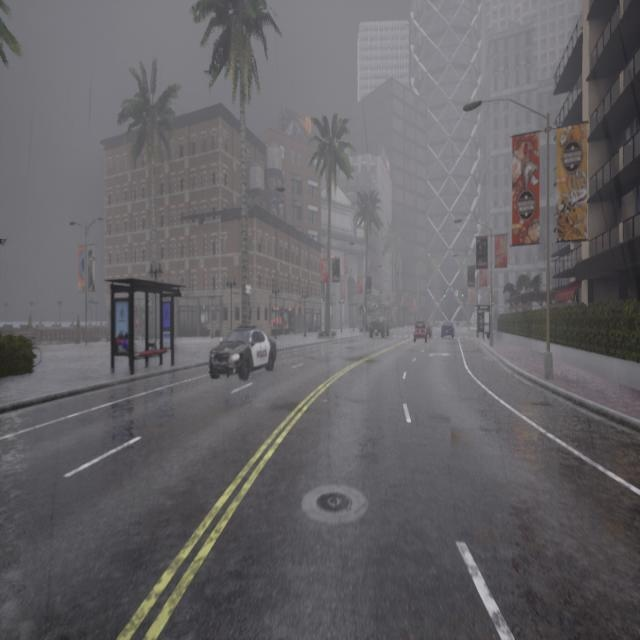bien_chi_dan: (492, 295, 495, 306), (461, 289, 464, 297), (444, 288, 446, 298), (443, 293, 446, 298), (461, 294, 464, 297), (492, 302, 494, 305)
